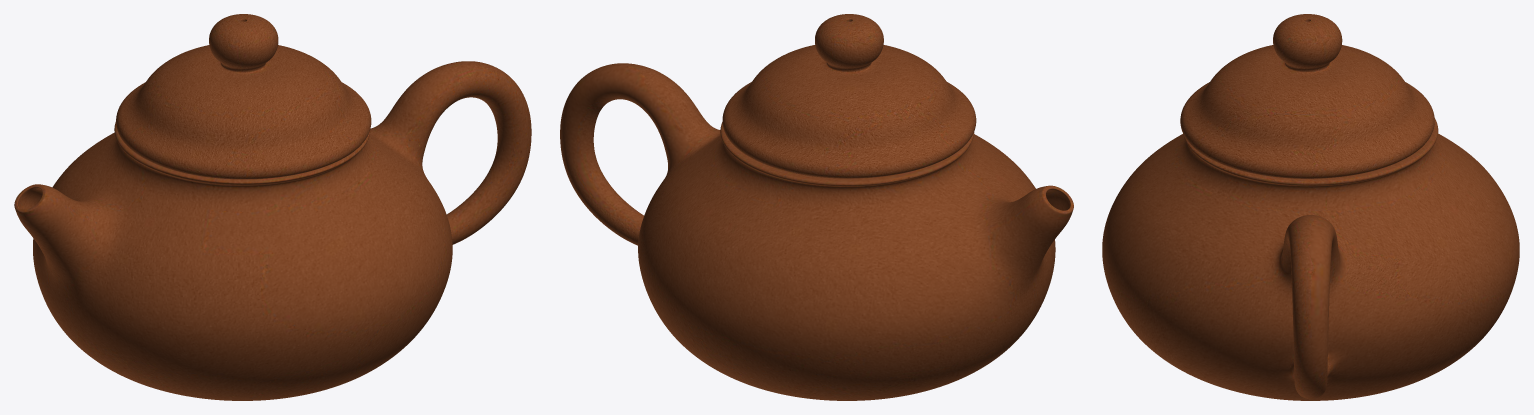
3 views of the same model, side by side, from view 1: azimuth 30°, elevation 25°; view 2: azimuth 150°, elevation 25°; view 3: azimuth 270°, elevation 25° (orthographic).
Parts seen in each view (by area): view 1: 图层 02(FA9A57D4-6AC8-44D3-9CDE-1FD46D236046), 默认值(7CAD3CD0-5A44-4784-9C25-24DE1E242684); view 2: 图层 02(FA9A57D4-6AC8-44D3-9CDE-1FD46D236046), 默认值(7CAD3CD0-5A44-4784-9C25-24DE1E242684); view 3: 图层 02(FA9A57D4-6AC8-44D3-9CDE-1FD46D236046), 默认值(7CAD3CD0-5A44-4784-9C25-24DE1E242684).
Boxes of the visible parts, x1=… form: 图层 02(FA9A57D4-6AC8-44D3-9CDE-1FD46D236046): x1=14, y1=61, x2=531, y2=400; 默认值(7CAD3CD0-5A44-4784-9C25-24DE1E242684): x1=116, y1=14, x2=371, y2=179; 图层 02(FA9A57D4-6AC8-44D3-9CDE-1FD46D236046): x1=560, y1=63, x2=1073, y2=400; 默认值(7CAD3CD0-5A44-4784-9C25-24DE1E242684): x1=722, y1=14, x2=976, y2=178; 图层 02(FA9A57D4-6AC8-44D3-9CDE-1FD46D236046): x1=1102, y1=118, x2=1519, y2=400; 默认值(7CAD3CD0-5A44-4784-9C25-24DE1E242684): x1=1180, y1=14, x2=1434, y2=178.
Bounding box in the file's own units: 0.0209 × 0.0127 × 0.0148.
Materials: 2 (2 with a texture image).
